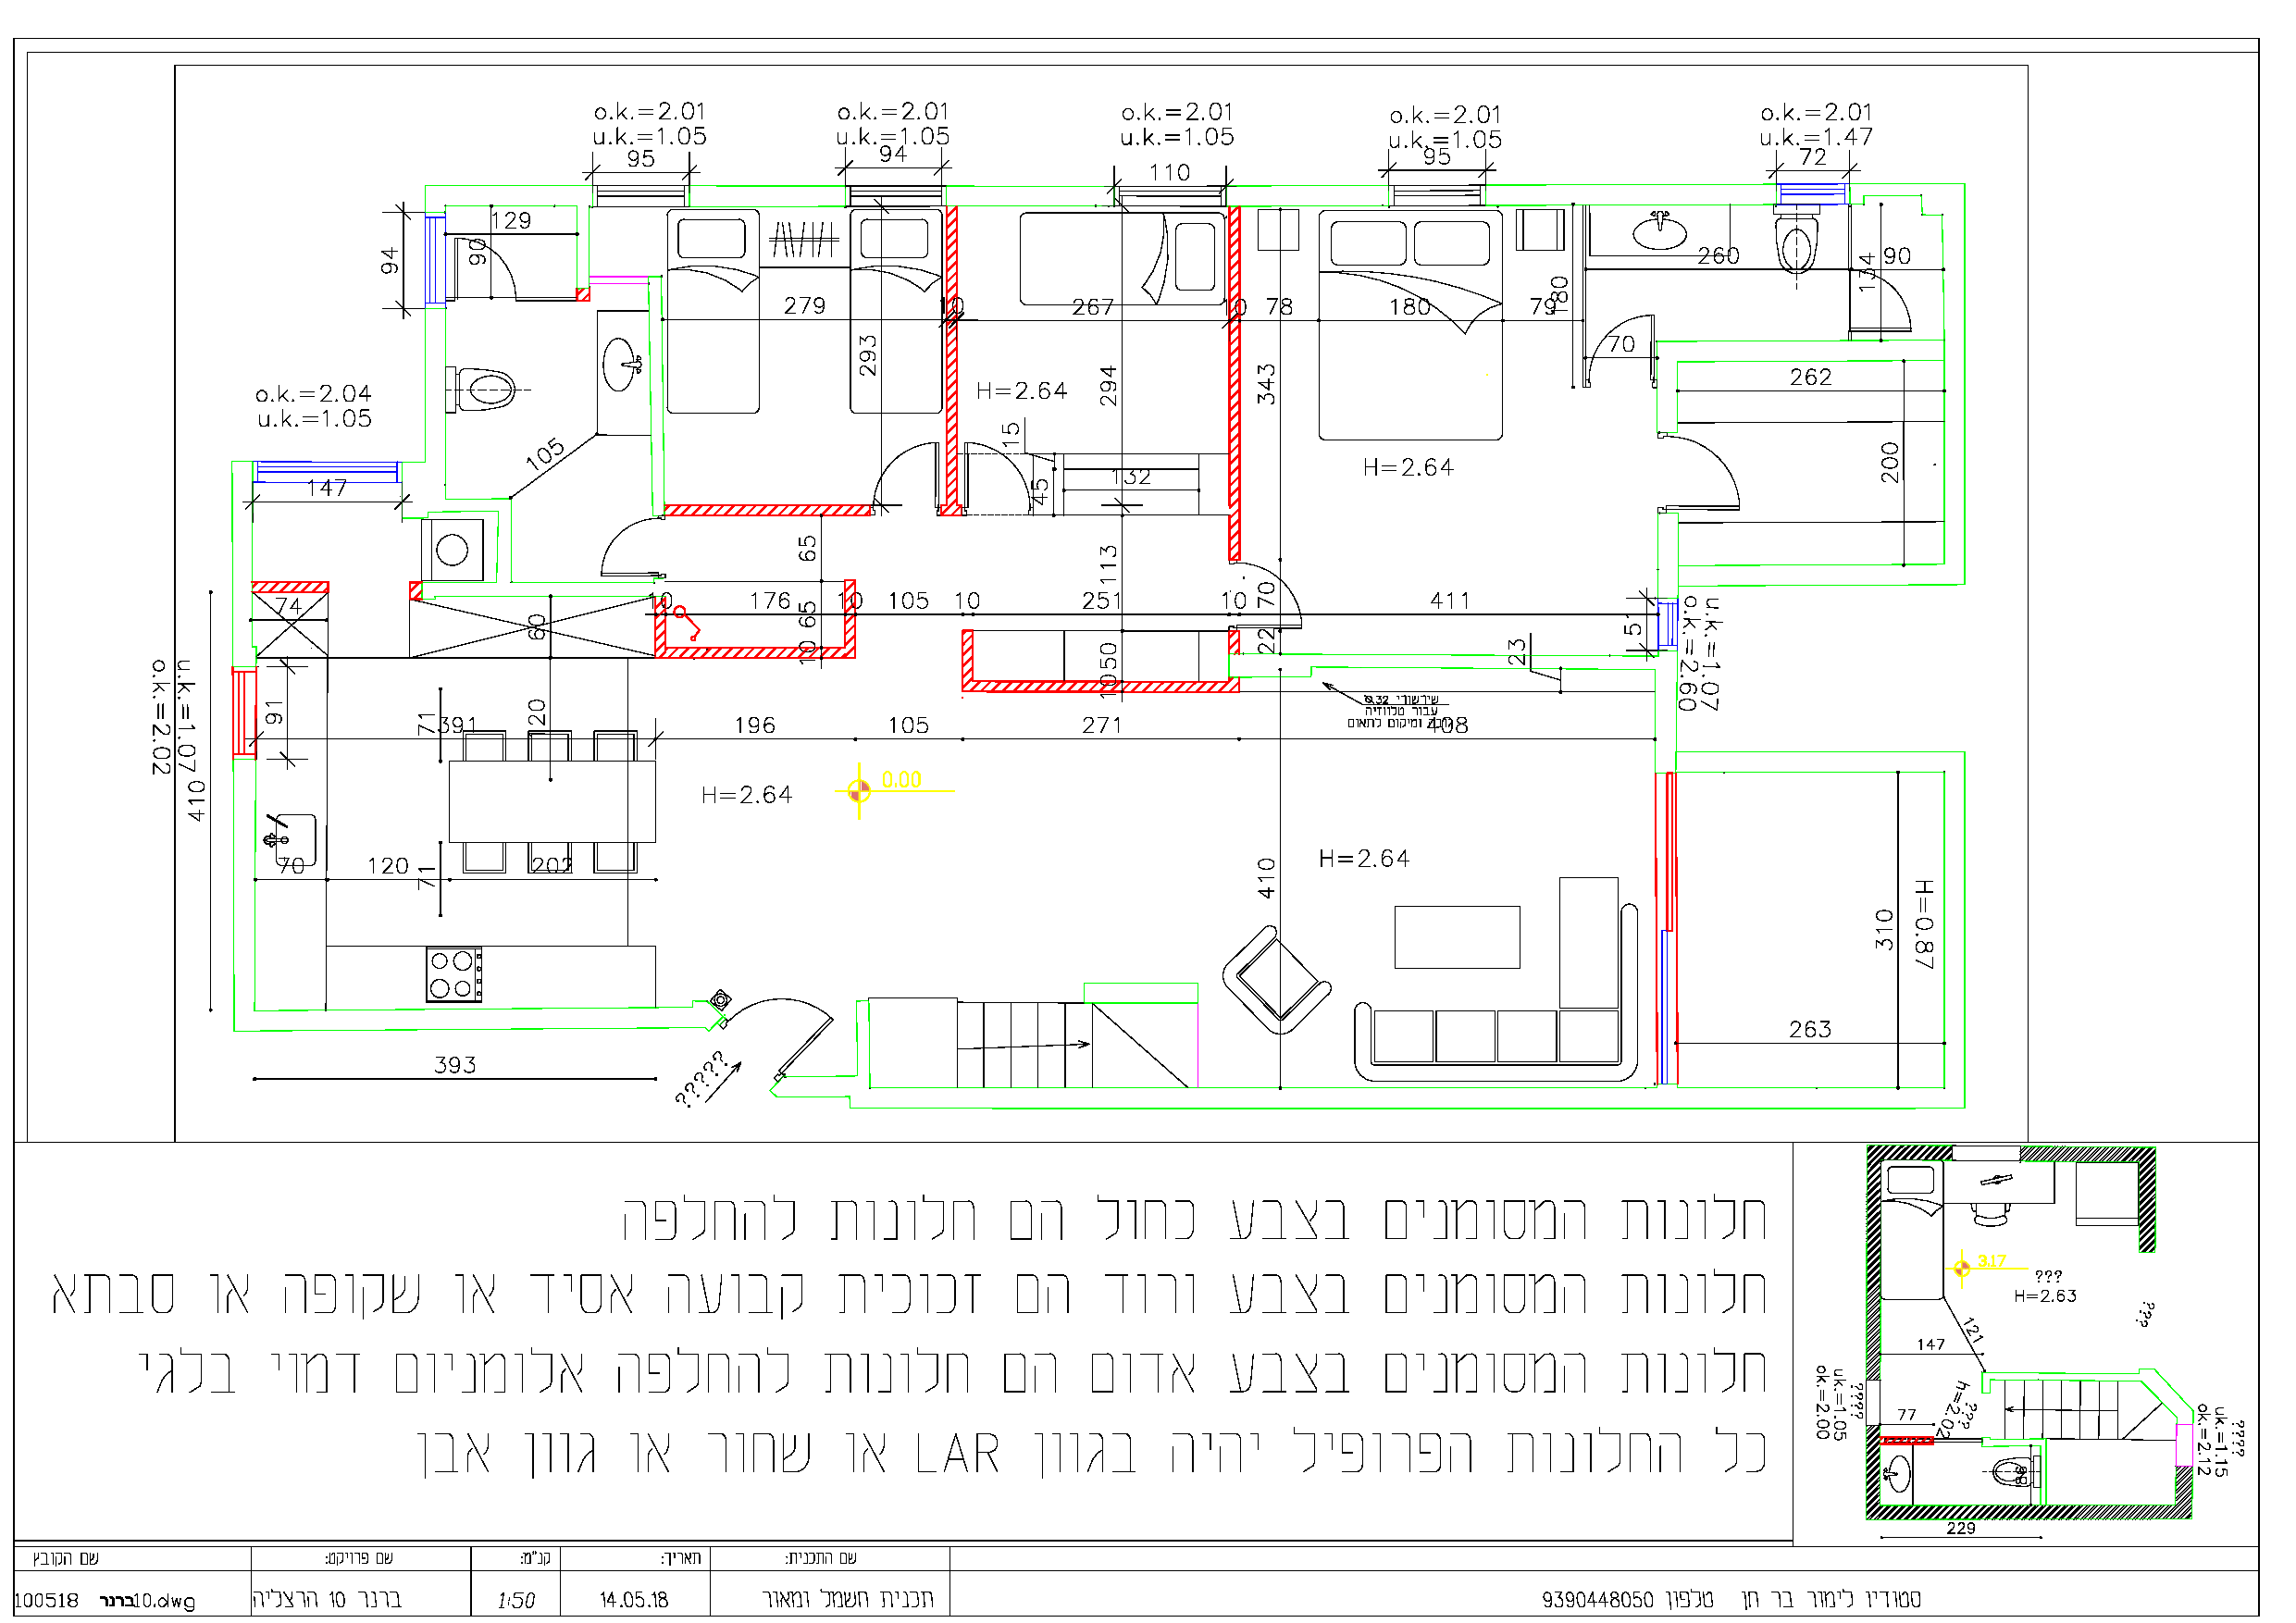door: (729, 992, 834, 1068), (1671, 434, 1746, 515), (875, 429, 938, 506), (1592, 304, 1655, 369), (590, 516, 657, 576)
wal: (966, 680, 1235, 692), (945, 207, 956, 513), (1226, 209, 1235, 557), (661, 643, 852, 653), (668, 508, 871, 515), (253, 583, 327, 594)
window: (235, 667, 253, 755), (592, 184, 685, 200), (1393, 181, 1483, 197), (1119, 186, 1217, 197), (850, 184, 940, 195)
